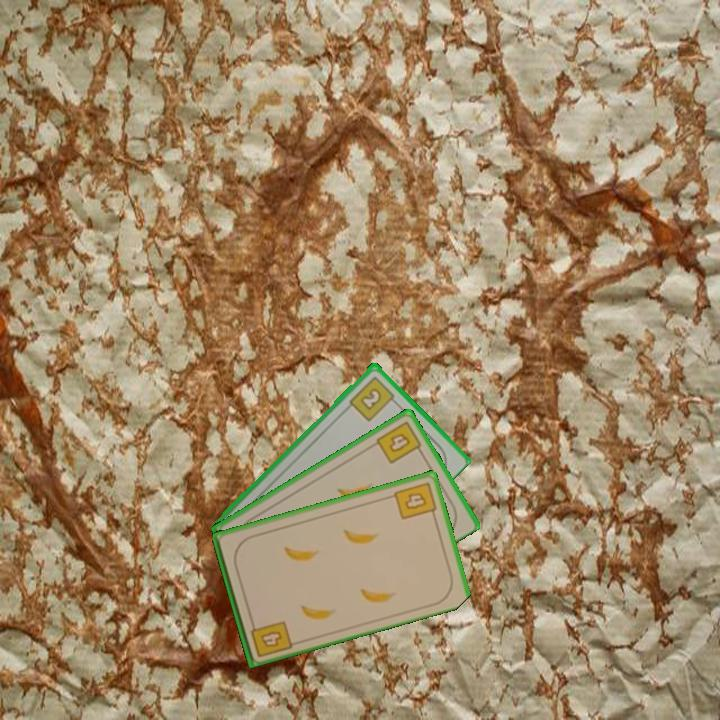2b: (346, 372, 400, 424)
4b: (372, 417, 426, 467), (391, 478, 439, 522), (247, 616, 294, 660)
